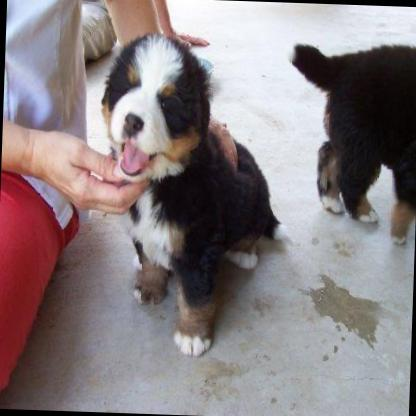Bernese_mountain_dog: (92, 30, 296, 360), (287, 39, 416, 240)
